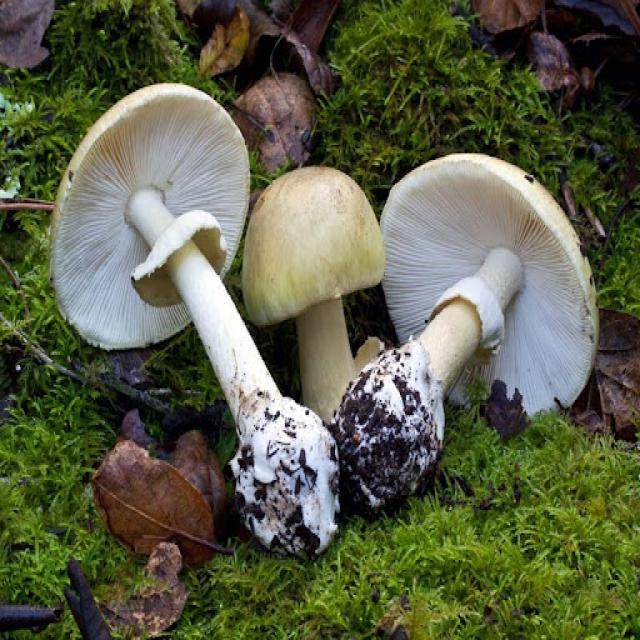death-cap: (49, 83, 345, 562), (330, 153, 599, 500), (240, 167, 386, 425)
